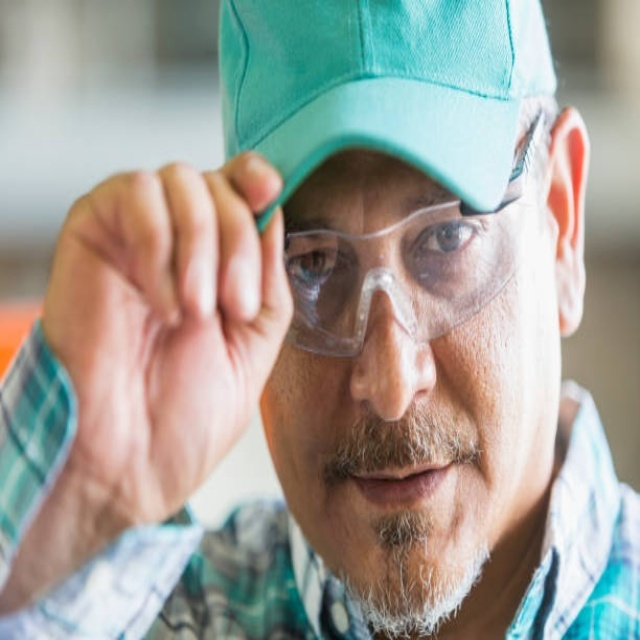Gafas: (272, 103, 550, 358)
Sin_guantes: (35, 145, 297, 537)
Sin_mascara: (322, 424, 462, 588)
